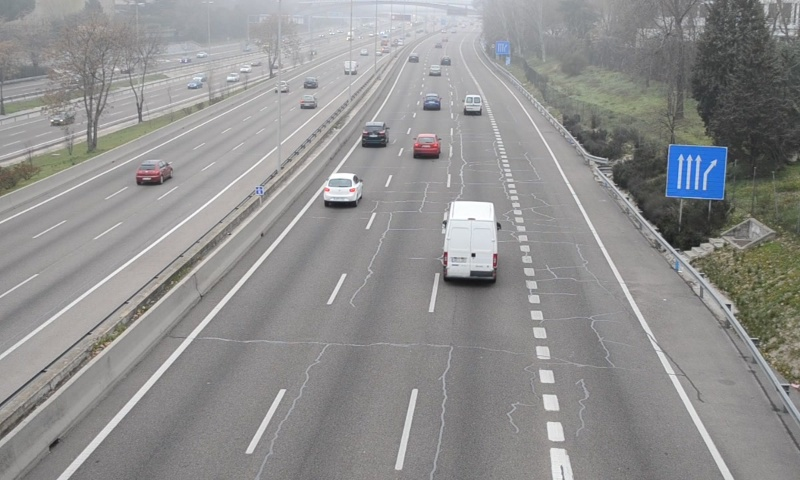car: (323, 173, 362, 203), (361, 120, 388, 145), (413, 133, 440, 157), (422, 92, 441, 111)
van: (443, 200, 497, 280), (463, 93, 484, 117)
